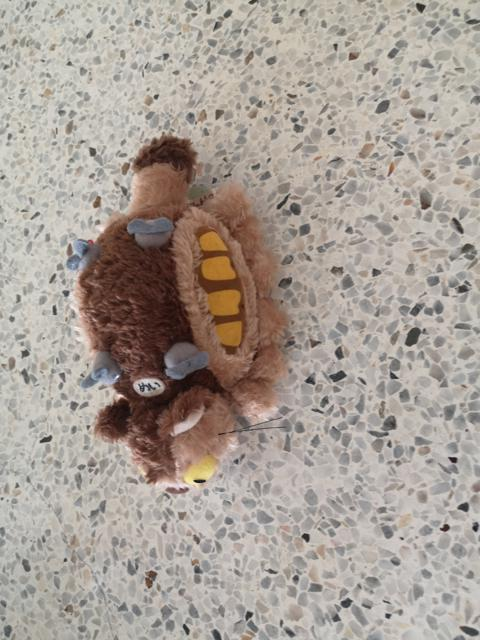nekobus: (65, 131, 291, 499)
